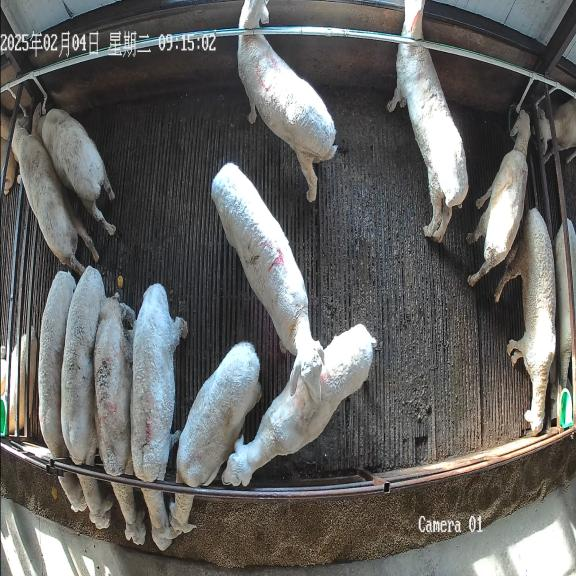drinking: (12, 117, 99, 274), (32, 103, 116, 235), (468, 111, 530, 285)
eating: (170, 341, 261, 532), (130, 283, 188, 550), (61, 266, 112, 534), (94, 293, 145, 545), (38, 271, 87, 512)
stand: (211, 163, 324, 396), (222, 324, 376, 486), (238, 0, 337, 202), (387, 0, 468, 242), (495, 208, 556, 435)
